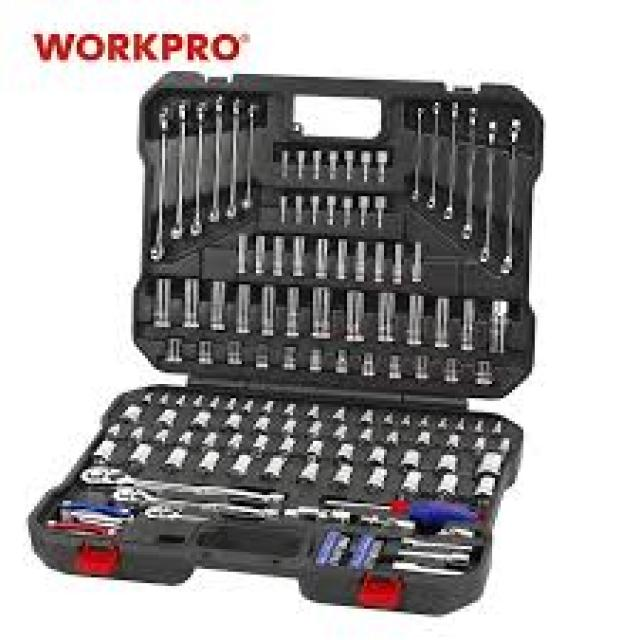tool_box: (28, 71, 546, 617)
